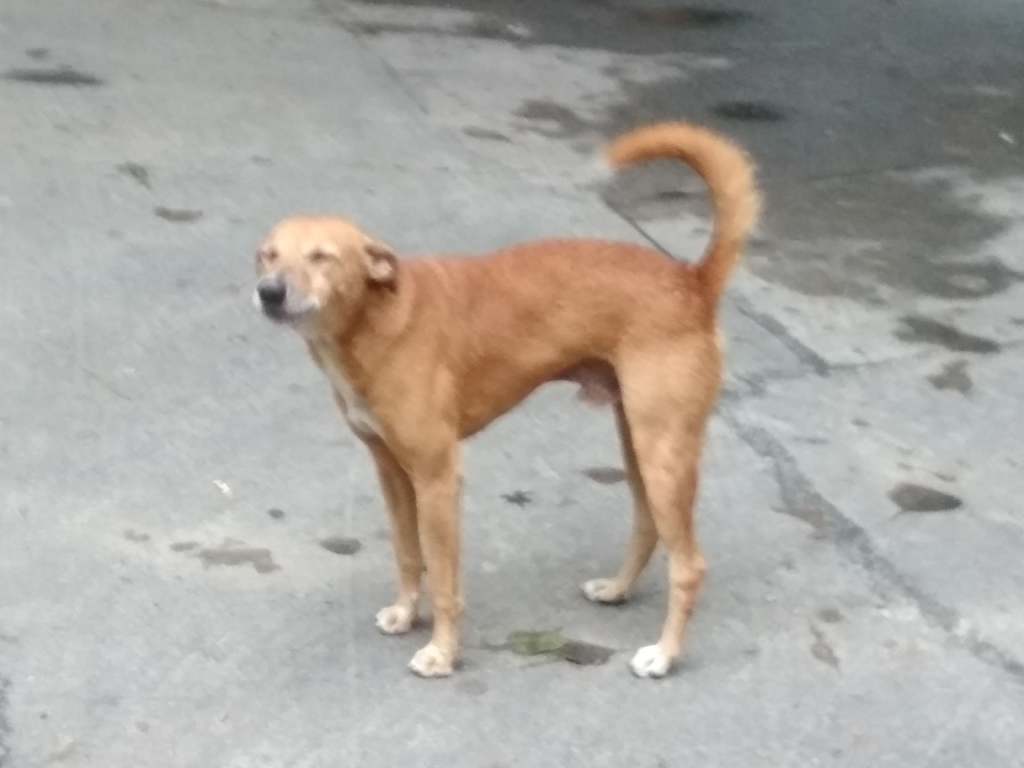dog: (250, 119, 765, 675)
